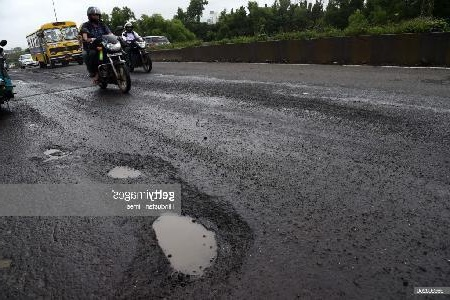pothole: (118, 191, 256, 300), (91, 148, 182, 183), (36, 142, 74, 165)
